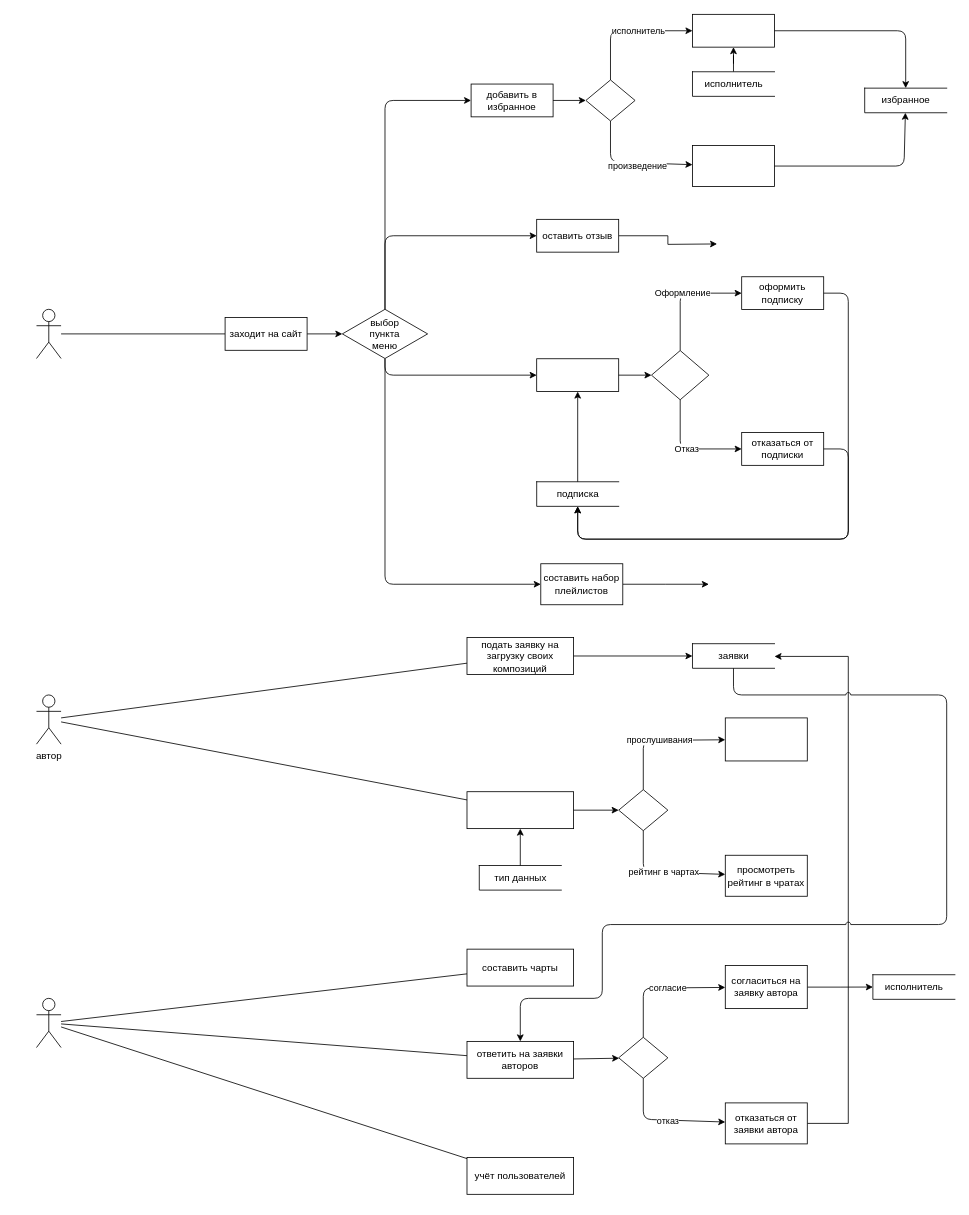
Some shapes in this 969 by 1215 pixel diagram are drawn without their labels. Each missing label, with the centre of its shape:
"администратор" goes at point (48, 1023).
"дабавить музыкальное произведение" goes at point (733, 166).
"добавить исполнителя" goes at point (733, 30).
"получить доступ" goes at point (577, 375).
"Пользователь" goes at point (48, 333).
"просмотреть прослушивания" goes at point (765, 739).
"просмотреть статистику" goes at point (520, 810).
